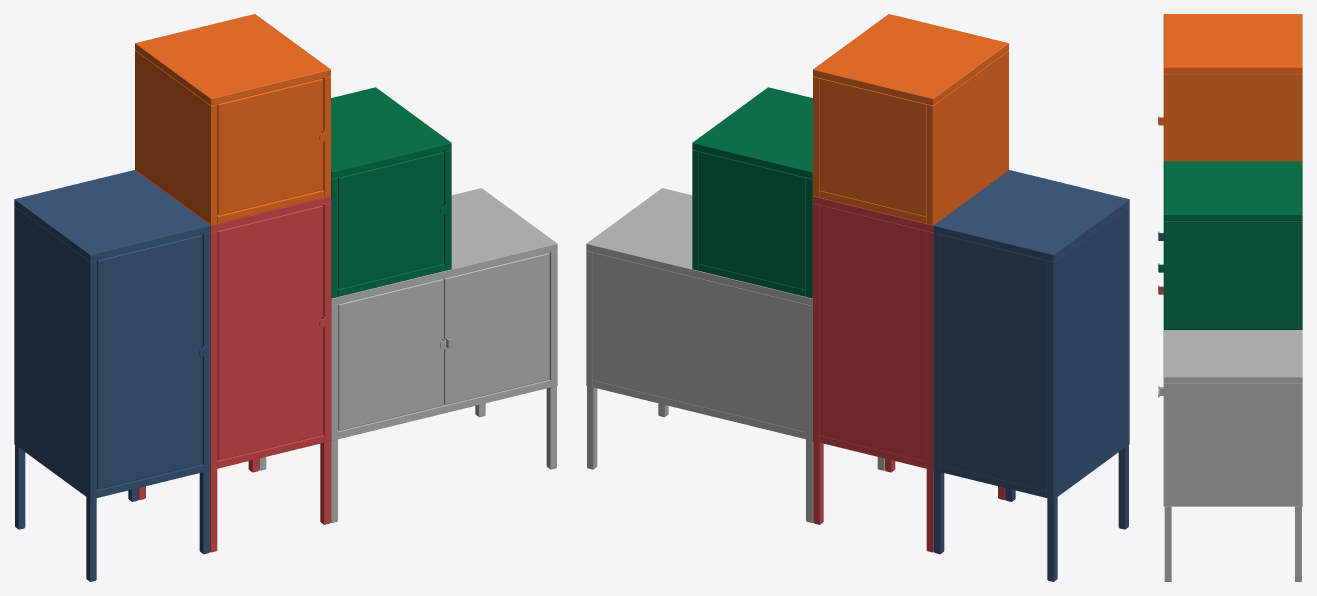
File: profil anim4.gltf
3 renders of one model, left to right at view 1: azimuth 30°, elevation 25°; view 2: azimuth 150°, elevation 25°; view 3: azimuth 270°, elevation 25°, orthographic. The views are drawn at different scales.
Parts seen in each view (by area): view 1: Blue; view 2: Blue; view 3: Blue.
Part boxes in pixels (<box>): Blue: <box>14,14,557,581</box>; Blue: <box>586,14,1129,581</box>; Blue: <box>1158,14,1302,581</box>.
Size of the model in its own units: 10.29 by 9.56 by 3.02.
